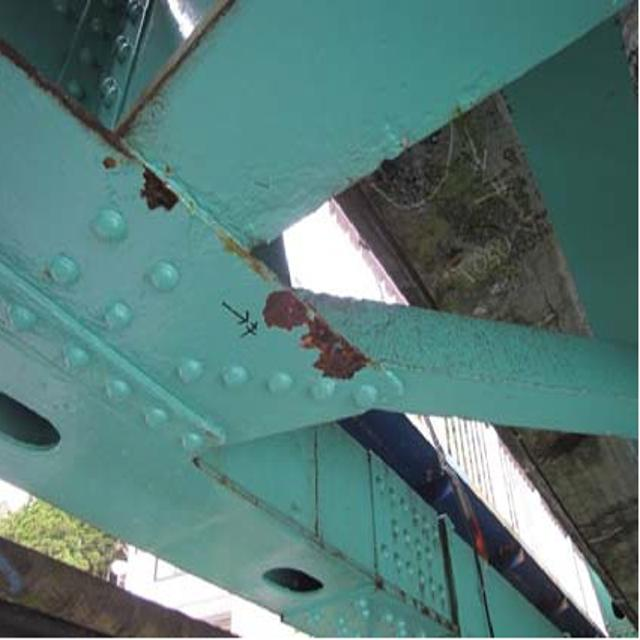corrosion: (0, 40, 226, 246), (264, 273, 377, 388)
